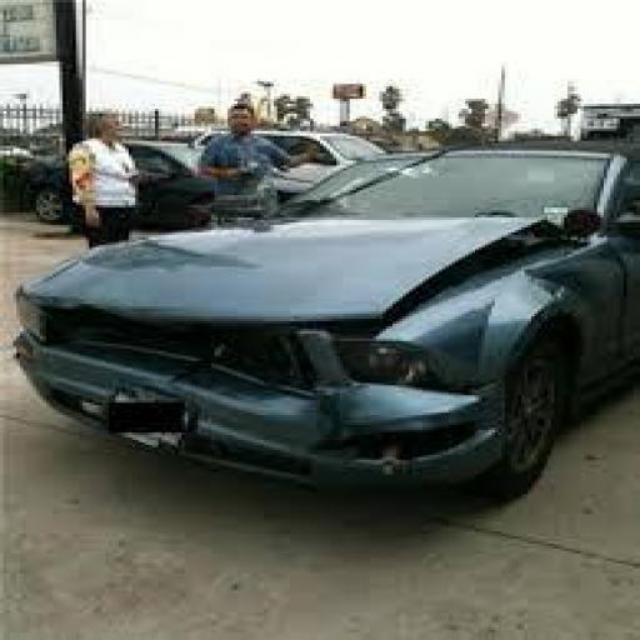dislocated part: (20, 221, 595, 484)
